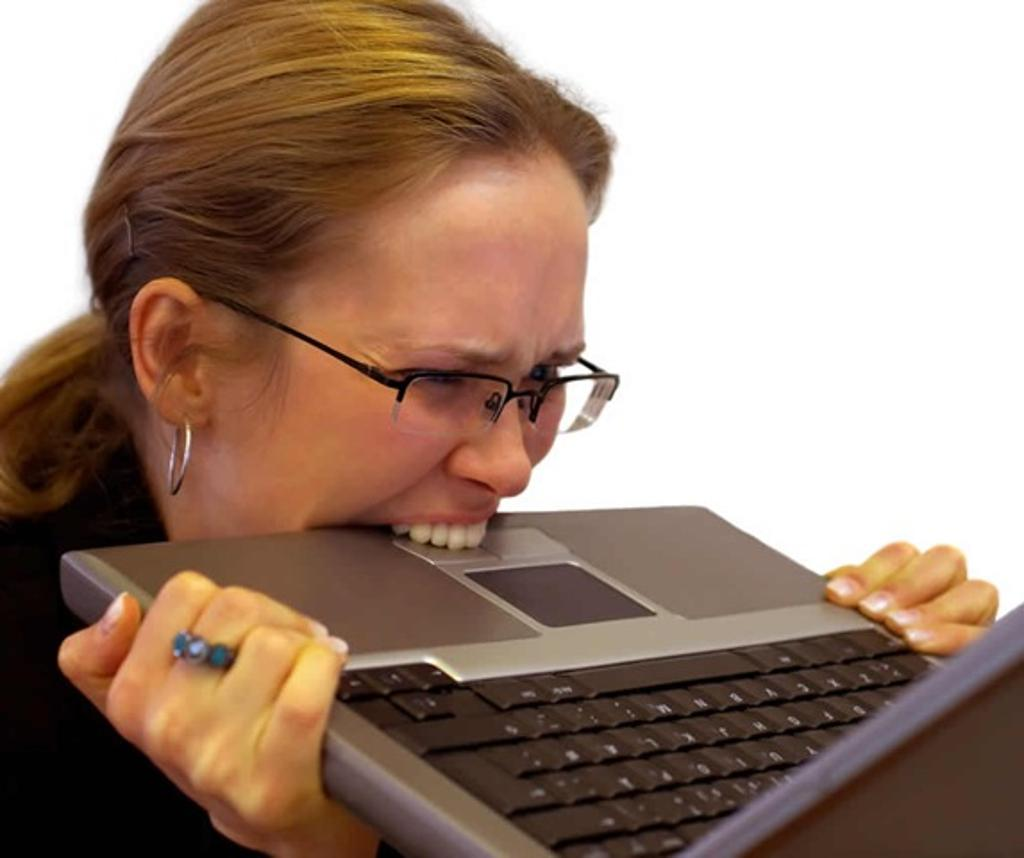face: (266, 142, 588, 626)
